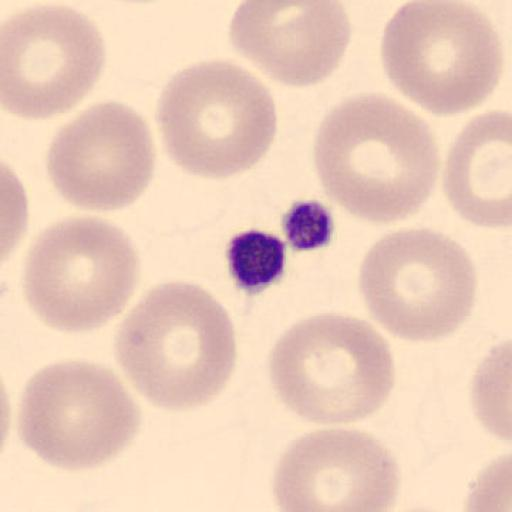Platelet: (222, 225, 290, 297), (277, 196, 337, 254)
RBC: (310, 90, 442, 226), (112, 277, 238, 413), (154, 57, 278, 180), (267, 309, 396, 426), (19, 214, 142, 336), (14, 358, 142, 473), (379, 0, 504, 117), (356, 226, 479, 344), (44, 98, 157, 214), (2, 3, 108, 121), (270, 426, 401, 512), (228, 0, 352, 89), (442, 107, 512, 229), (469, 336, 512, 445), (0, 158, 30, 265), (461, 451, 512, 512), (0, 372, 13, 459), (379, 503, 453, 512)
